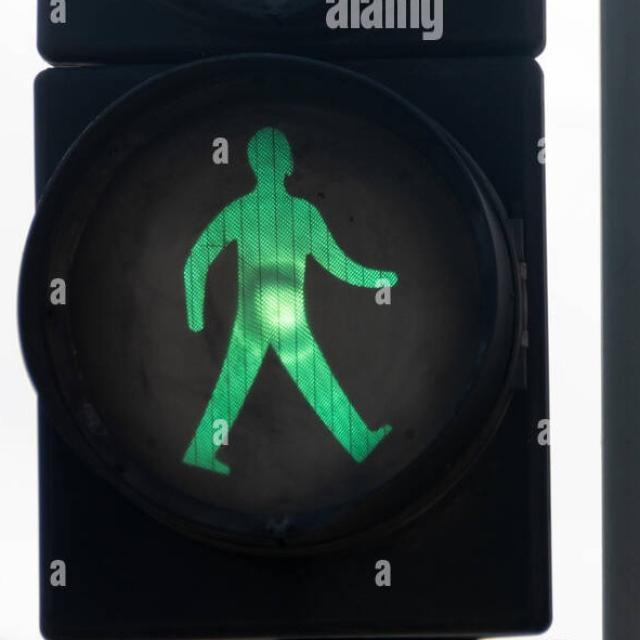geen-crossing: (163, 118, 400, 482)
